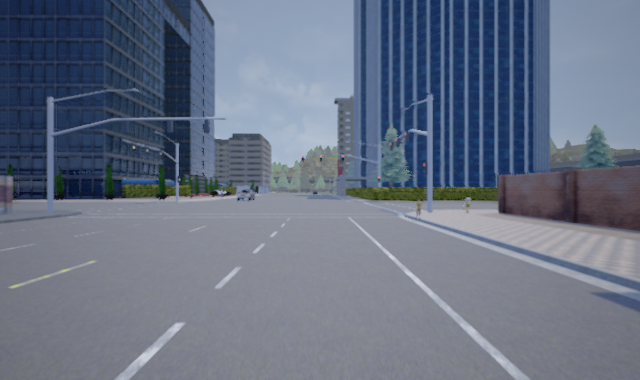pedestrian: (460, 192, 475, 213), (412, 197, 425, 218)
vehicle: (236, 189, 255, 202), (209, 189, 231, 197)
